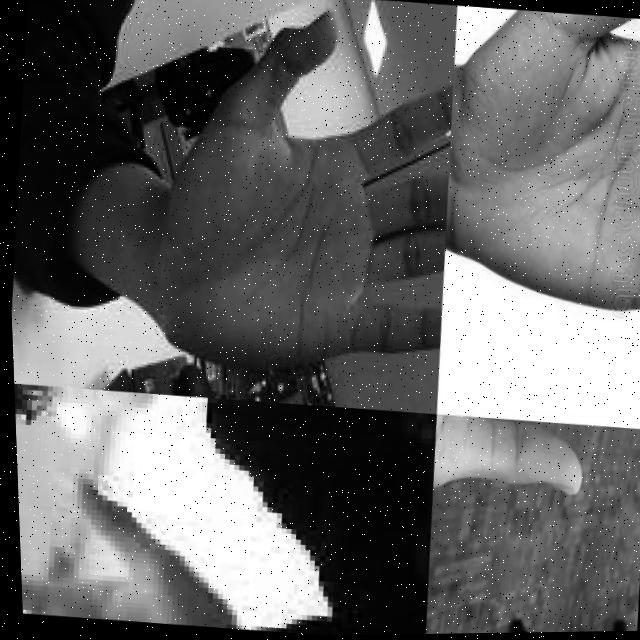hand: (134, 0, 466, 389), (429, 4, 640, 336), (14, 463, 273, 634), (426, 412, 640, 511)
